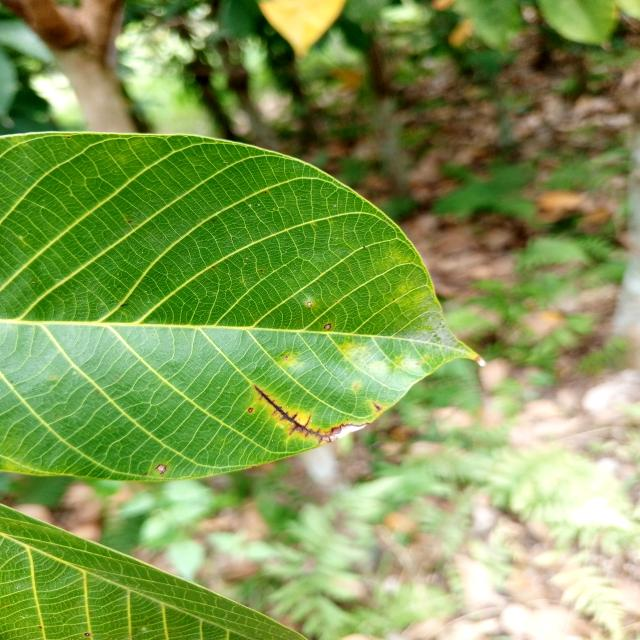Colletotrichum: (156, 464, 167, 472), (324, 324, 332, 330), (248, 408, 254, 413), (84, 632, 90, 636), (307, 302, 311, 305)
Corynespora: (255, 386, 334, 442)
Leaf-Blight: (330, 424, 369, 442)
